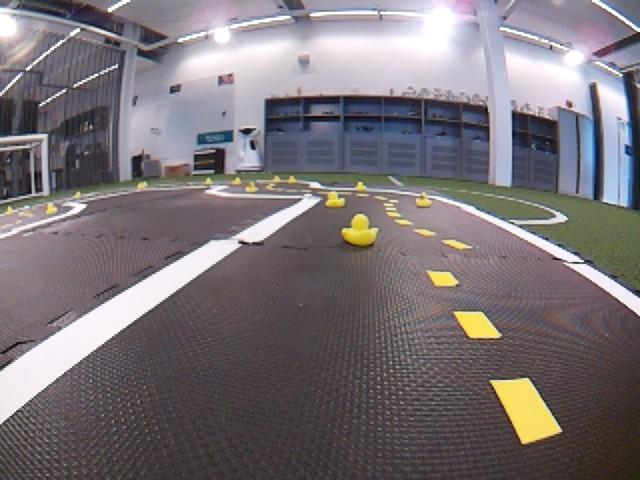Duckies: (341, 214, 377, 246), (326, 192, 345, 208), (415, 192, 433, 208), (45, 203, 57, 214), (245, 182, 258, 192), (354, 182, 367, 191), (6, 207, 16, 215), (287, 176, 296, 184), (231, 178, 241, 185), (203, 178, 212, 184), (74, 192, 81, 199), (272, 175, 280, 181), (138, 183, 145, 188)
